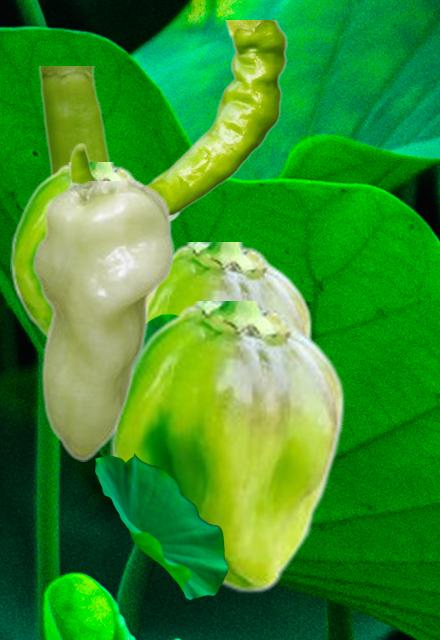green_chili: (110, 301, 345, 593), (69, 20, 287, 221), (29, 181, 173, 460), (10, 162, 162, 338), (37, 66, 111, 351), (149, 242, 312, 337)
